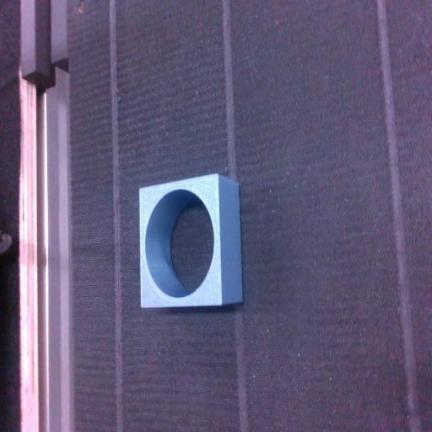square: (140, 174, 242, 307)
